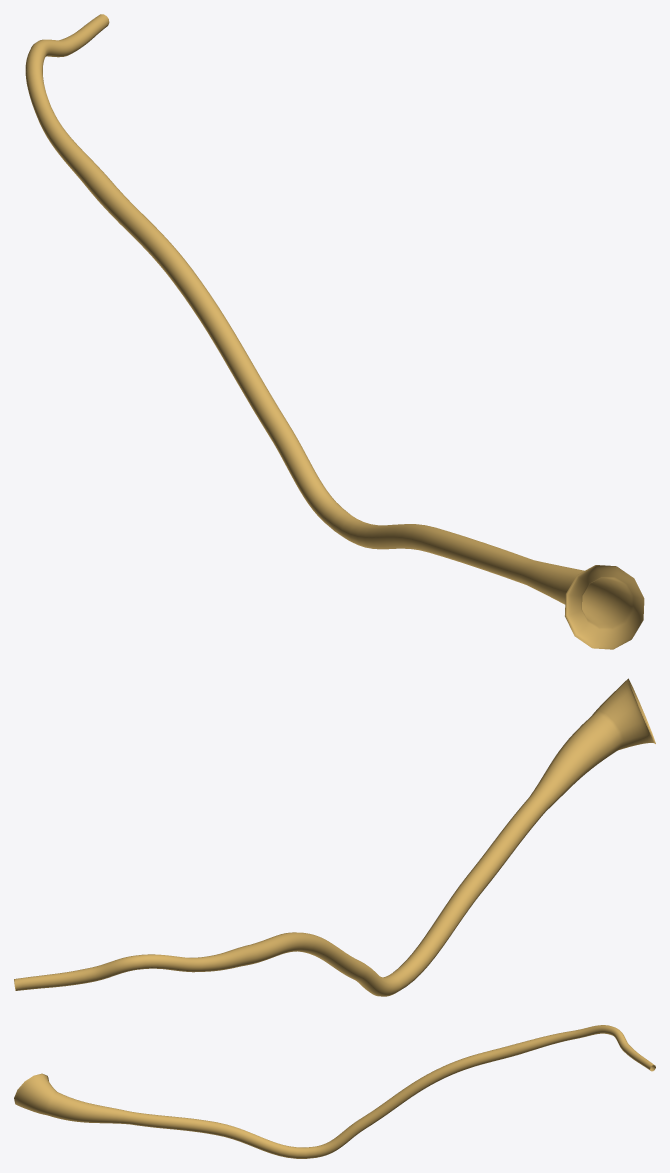
The picture shows the model from 3 angles, top to bottom: view 1: azimuth 30°, elevation 25°; view 2: azimuth 150°, elevation 25°; view 3: azimuth 270°, elevation 25°; orthographic projection. The views are drawn at different scales.
Visible parts, largest first — view 1: 右侧输尿管; view 2: 右侧输尿管; view 3: 右侧输尿管.
Boxes of the visible parts, left/top/right/bottom form: 右侧输尿管: left=25, top=14, right=644, bottom=649; 右侧输尿管: left=14, top=678, right=655, bottom=996; 右侧输尿管: left=14, top=1025, right=655, bottom=1158.
Size of the model in its own units: 0.0455 by 0.0741 by 0.3275.
